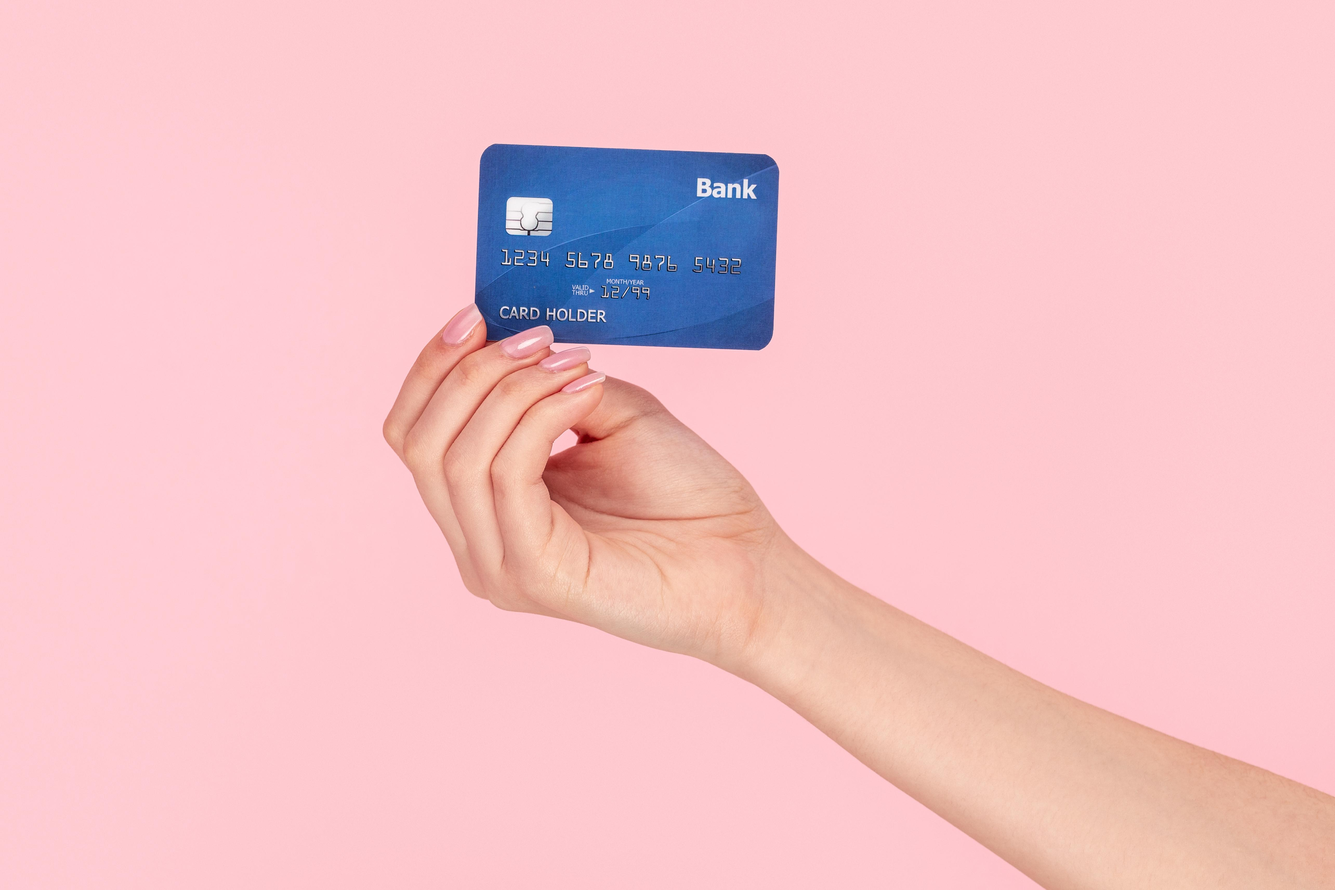Credit_card: (475, 144, 779, 349)
